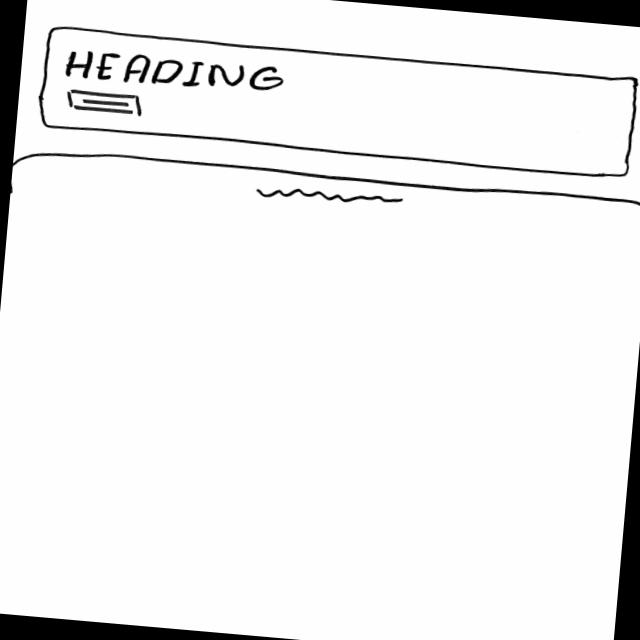container: (34, 23, 639, 185)
icon-button: (65, 89, 146, 118)
label: (60, 44, 287, 99)
text: (252, 181, 411, 211)
